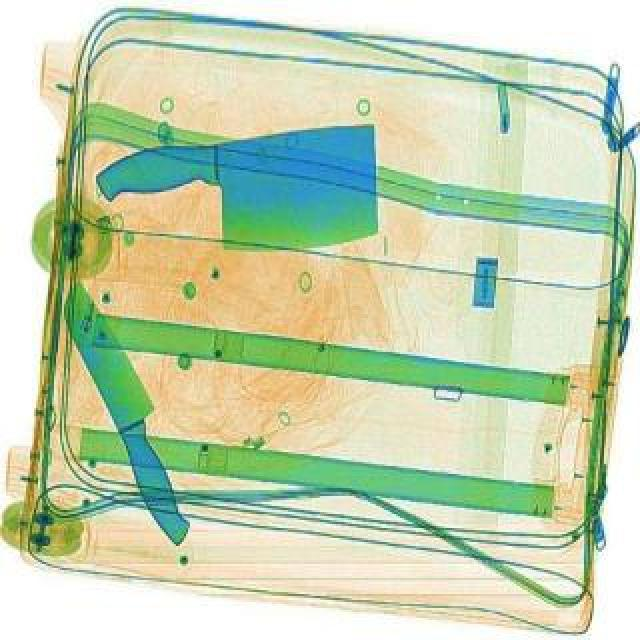knife: (46, 264, 214, 558), (92, 112, 384, 258)
